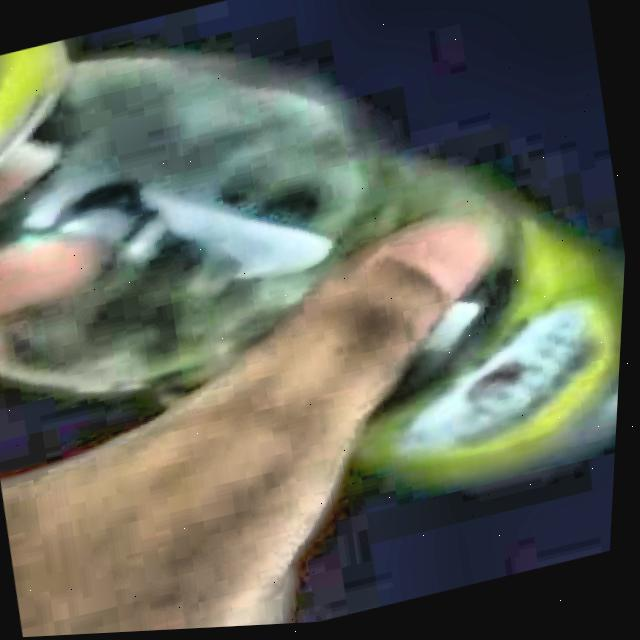plastic: (0, 37, 628, 483)
